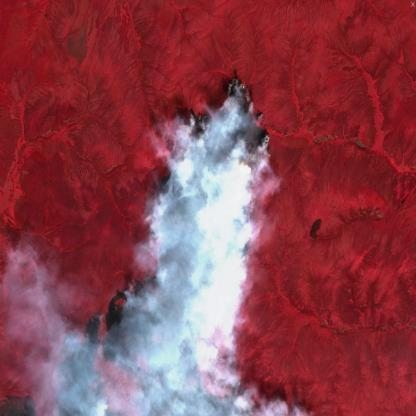fire: (117, 66, 280, 382)
